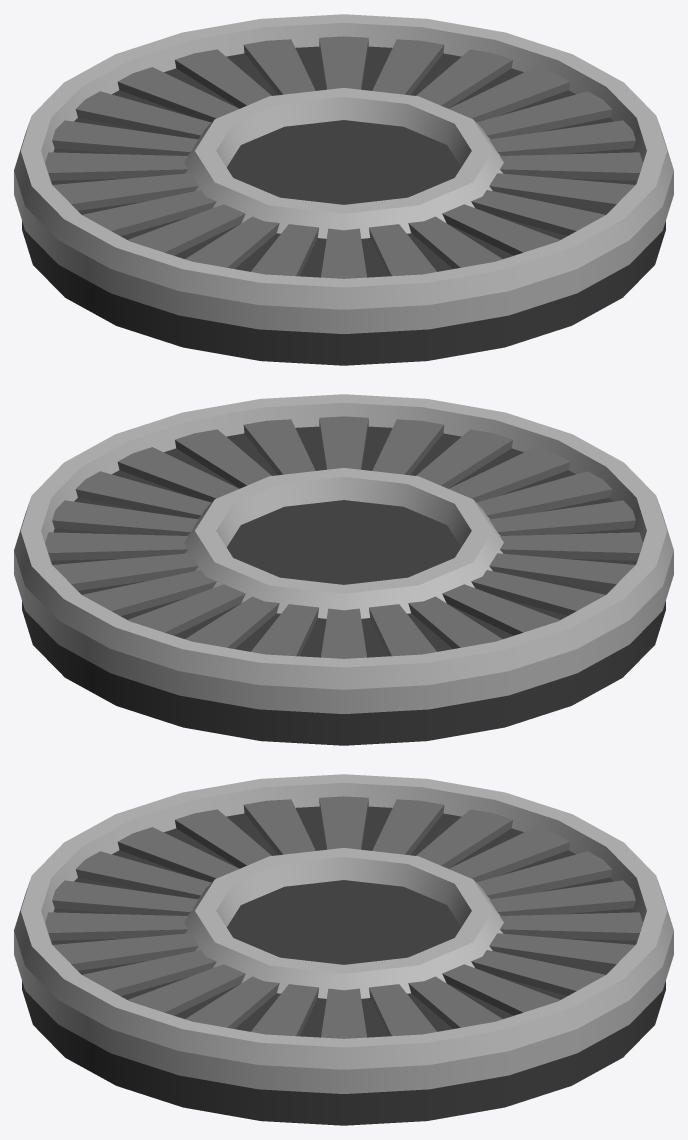
Rendered from turret_008.fbx.
3 renders of one model, top to bottom at view 1: azimuth 30°, elevation 25°; view 2: azimuth 150°, elevation 25°; view 3: azimuth 270°, elevation 25°, orthographic.
Parts seen in each view (by area): view 1: turret_008; view 2: turret_008; view 3: turret_008.
Part boxes in pixels (x1,y1,x2,y2): turret_008: [14, 14, 673, 365]; turret_008: [14, 394, 673, 745]; turret_008: [14, 774, 673, 1125].
Size of the model in its own units: 915 by 915 by 121.
